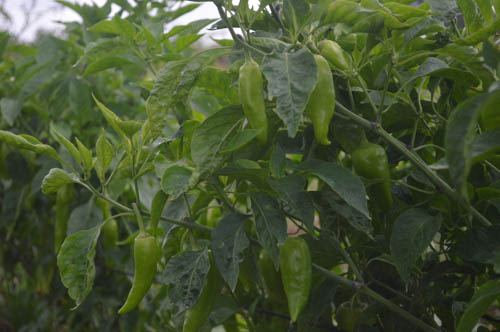ChiliPepper: (297, 57, 338, 147), (177, 253, 218, 328), (280, 237, 315, 321), (122, 236, 155, 313), (239, 64, 268, 140), (354, 147, 393, 203), (323, 43, 363, 86)
